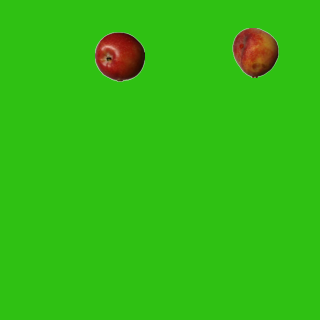Apple Braeburn: (94, 31, 144, 81)
Peach: (230, 27, 280, 77)
